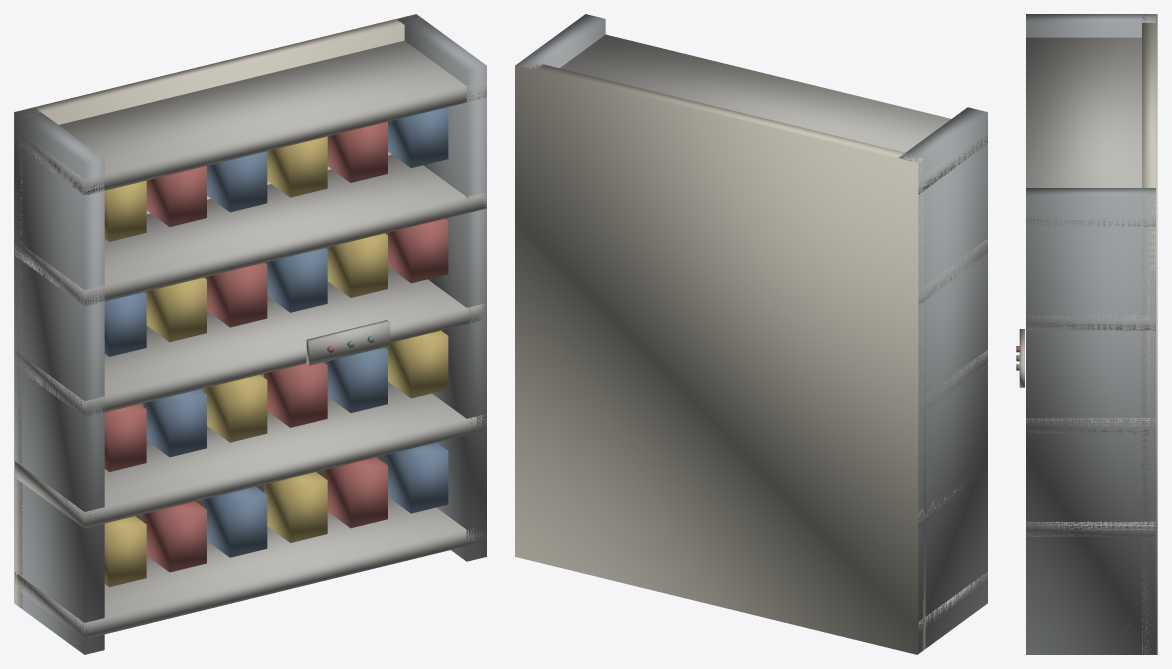
File: retail_gondola__reinforced.glb
3 renders of one model, left to right at view 1: azimuth 30°, elevation 25°; view 2: azimuth 150°, elevation 25°; view 3: azimuth 270°, elevation 25°, orthographic. The views are drawn at different scales.
Parts seen in each view (by area): view 1: world; view 2: world; view 3: world.
Part boxes in pixels (bbox=[...]): world: bbox=[14, 14, 486, 654]; world: bbox=[515, 14, 987, 654]; world: bbox=[1016, 14, 1157, 654].
Bounding box in the file's own units: 1.44 × 1.68 × 0.4697.
